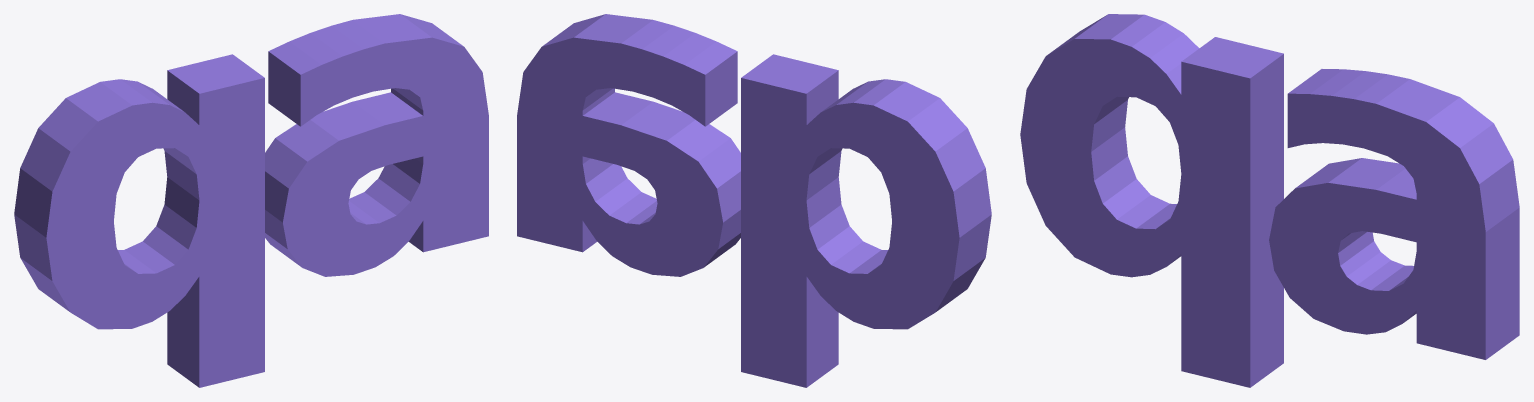
Rendered from suku_kecil_qa.glb.
3 views of the same model, side by side, from view 1: azimuth 30°, elevation 25°; view 2: azimuth 150°, elevation 25°; view 3: azimuth 330°, elevation 25° (orthographic). The views are drawn at different scales.
Visible parts, largest first — view 1: geometry_0; view 2: geometry_0; view 3: geometry_0.
Boxes of the visible parts, x1=… form: geometry_0: x1=14, y1=14, x2=488, y2=387; geometry_0: x1=517, y1=14, x2=991, y2=387; geometry_0: x1=1020, y1=14, x2=1519, y2=387.
Size of the model in its own units: 11.88 by 7.68 by 1.5.
